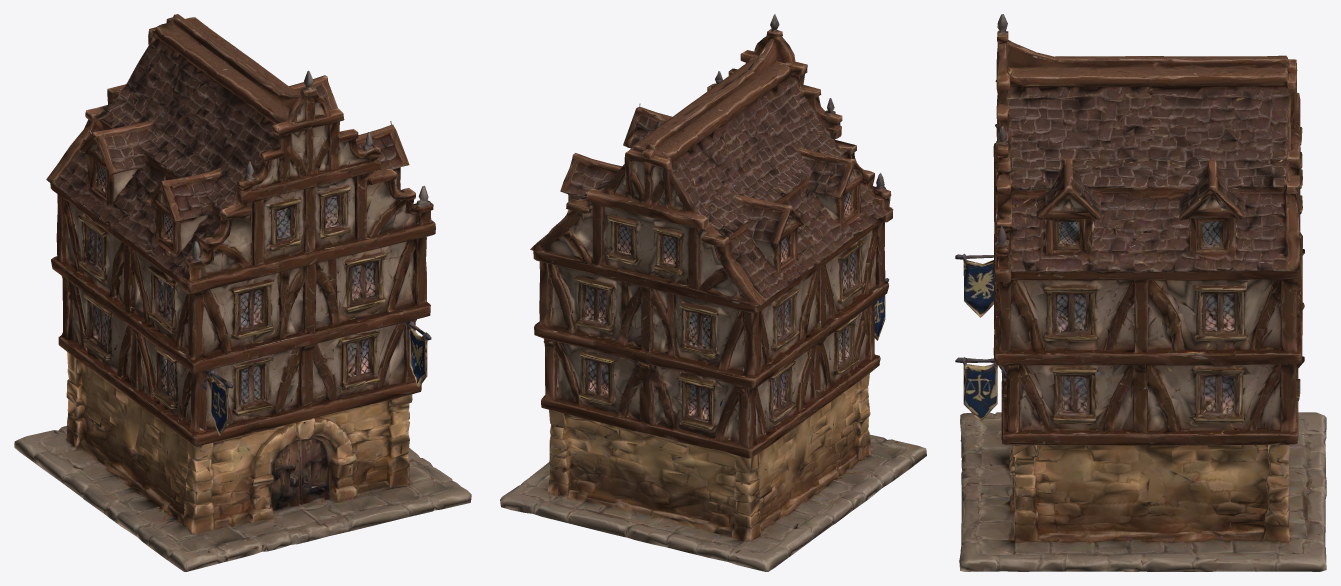
File: torgovy-dom.glb
3 views of the same model, side by side, from view 1: azimuth 30°, elevation 25°; view 2: azimuth 150°, elevation 25°; view 3: azimuth 270°, elevation 25° (orthographic). The views are drawn at different scales.
Bounding box in the file's own units: 1.28 × 1.9 × 1.33.
1 material, 1 textured.
